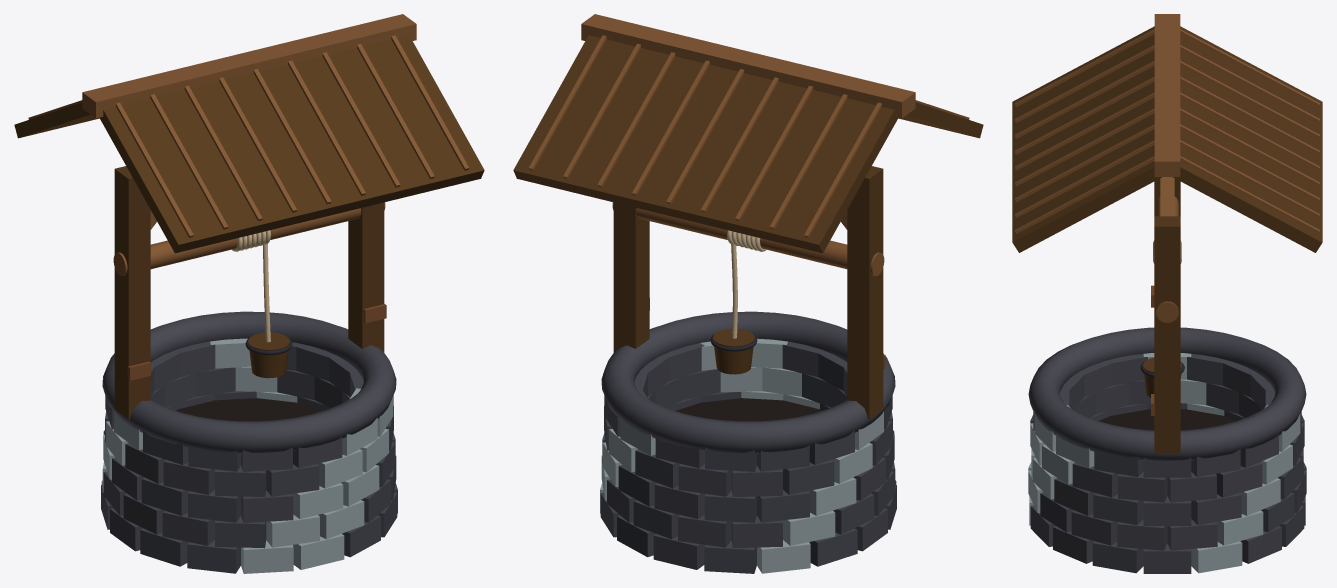
Rendered from mia-well.glb.
The picture shows the model from 3 angles, left to right: view 1: azimuth 30°, elevation 25°; view 2: azimuth 150°, elevation 25°; view 3: azimuth 270°, elevation 25°; orthographic projection. The views are drawn at different scales.
Visible parts, largest first — view 1: Body_wood, Body_stone, Body_oak, Body_steel, Body_black, Body_ivory, Body_rust; view 2: Body_wood, Body_stone, Body_oak, Body_steel, Body_black, Body_ivory; view 3: Body_stone, Body_wood, Body_oak, Body_steel, Body_black.
Part boxes in pixels (left/top/right/bottom): Body_wood: left=14, top=35, right=484, bottom=419; Body_stone: left=101, top=311, right=397, bottom=573; Body_oak: left=28, top=14, right=469, bottom=276; Body_steel: left=101, top=338, right=393, bottom=573; Body_black: left=176, top=398, right=322, bottom=421; Body_ivory: left=232, top=230, right=270, bottom=342; Body_rust: left=127, top=304, right=386, bottom=380; Body_wood: left=513, top=35, right=983, bottom=419; Body_stone: left=600, top=311, right=896, bottom=573; Body_oak: left=528, top=14, right=969, bottom=276; Body_steel: left=600, top=338, right=883, bottom=573; Body_black: left=675, top=398, right=821, bottom=421; Body_ivory: left=727, top=230, right=765, bottom=338; Body_stone: left=1028, top=327, right=1306, bottom=573; Body_wood: left=1012, top=26, right=1322, bottom=453; Body_oak: left=1015, top=14, right=1319, bottom=322; Body_steel: left=1028, top=353, right=1300, bottom=573; Body_black: left=1098, top=409, right=1236, bottom=430.
Size of the model in its own units: 2.05 by 2.77 by 1.82.
